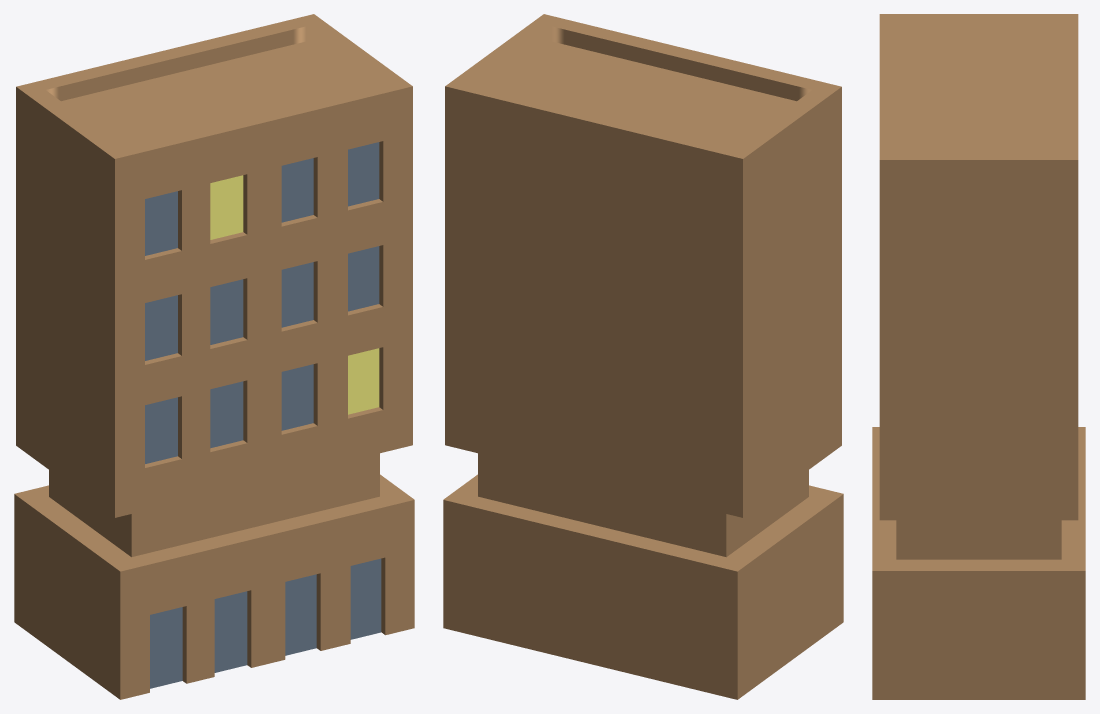
3 views of the same model, side by side, from view 1: azimuth 30°, elevation 25°; view 2: azimuth 150°, elevation 25°; view 3: azimuth 270°, elevation 25° (orthographic).
Parts seen in each view (by area): view 1: _b5; view 2: _b5; view 3: _b5.
Boxes of the visible parts, x1=… form: _b5: x1=14, y1=14, x2=414, y2=699; _b5: x1=443, y1=14, x2=843, y2=699; _b5: x1=872, y1=14, x2=1085, y2=699.
Size of the model in its own units: 2.43 by 4.2 by 1.5.
1 material, 1 textured.
